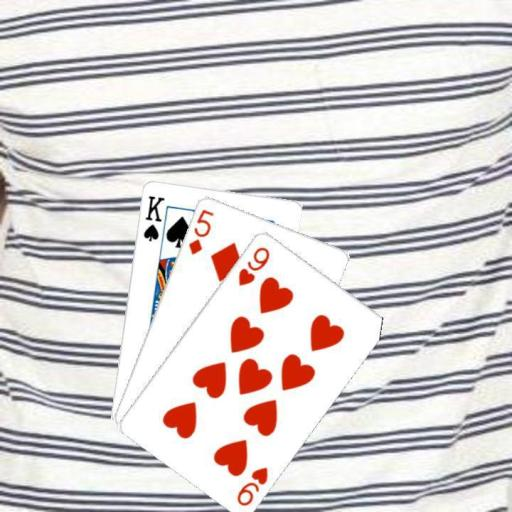card-corner: (234, 243, 272, 287), (233, 463, 270, 507), (185, 206, 215, 256), (139, 192, 166, 242)
